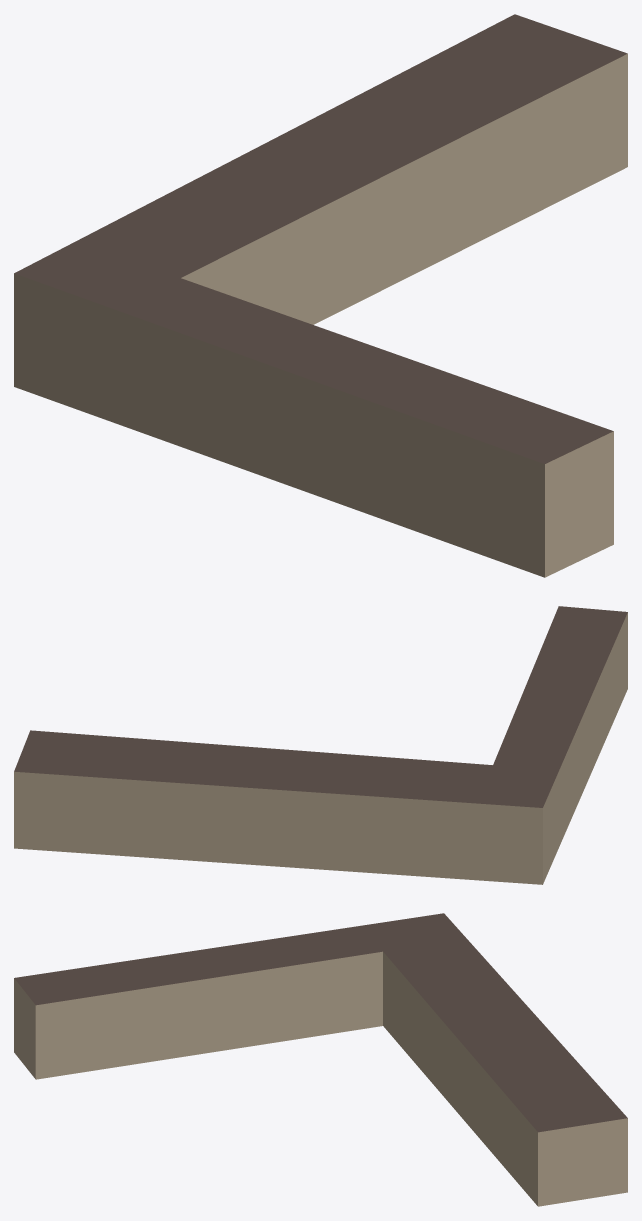
3 views of the same model, one above another, from view 1: azimuth 30°, elevation 25°; view 2: azimuth 150°, elevation 25°; view 3: azimuth 270°, elevation 25° (orthographic). The views are drawn at different scales.
Visible parts, largest first — view 1: HP-w369317574; view 2: HP-w369317574; view 3: HP-w369317574.
Boxes of the visible parts, left/top/right/bottom form: HP-w369317574: left=14, top=14, right=627, bottom=577; HP-w369317574: left=14, top=606, right=627, bottom=884; HP-w369317574: left=14, top=913, right=627, bottom=1206.
Size of the model in its own units: 56.9 by 9 by 67.37.
